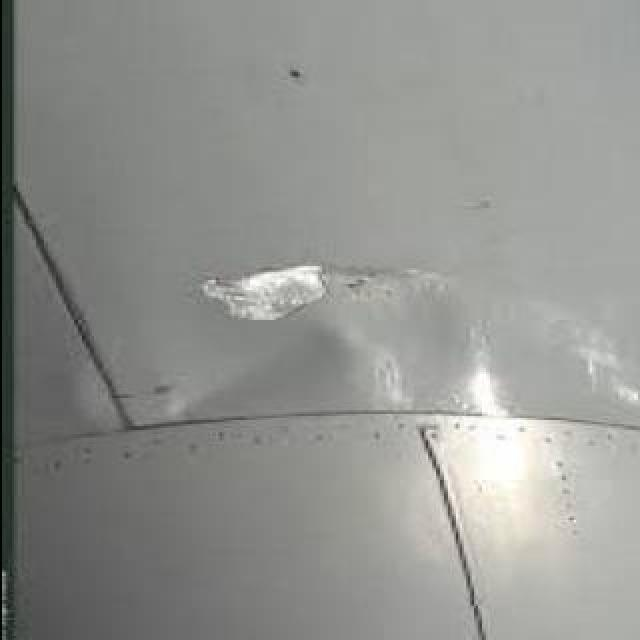dent: (190, 263, 454, 331)
